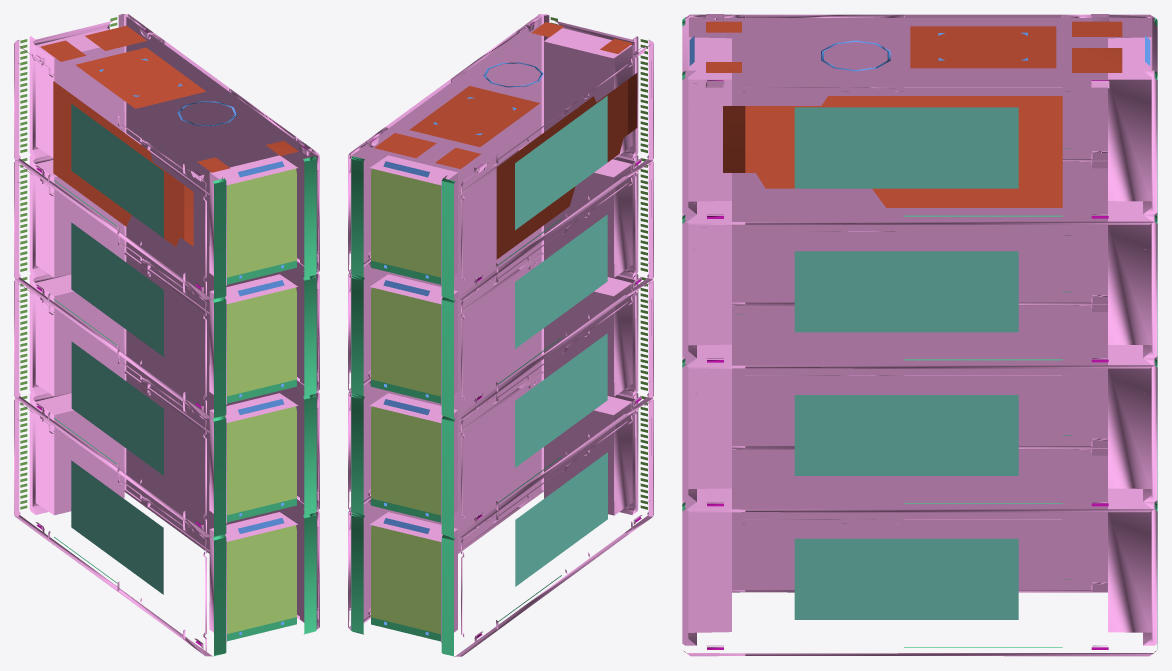
The model's file is storage_container_stack_2_b_lod2.glb.
The picture shows the model from 3 angles, left to right: view 1: azimuth 30°, elevation 25°; view 2: azimuth 150°, elevation 25°; view 3: azimuth 270°, elevation 25°; orthographic projection. The views are drawn at different scales.
Bounding box in the file's own units: 2.51 × 10.03 × 7.49.
